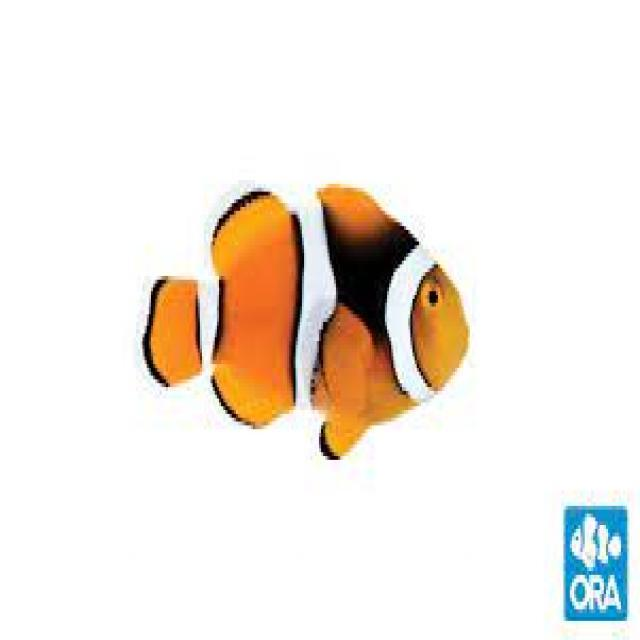ClownFish: (131, 161, 479, 480)
